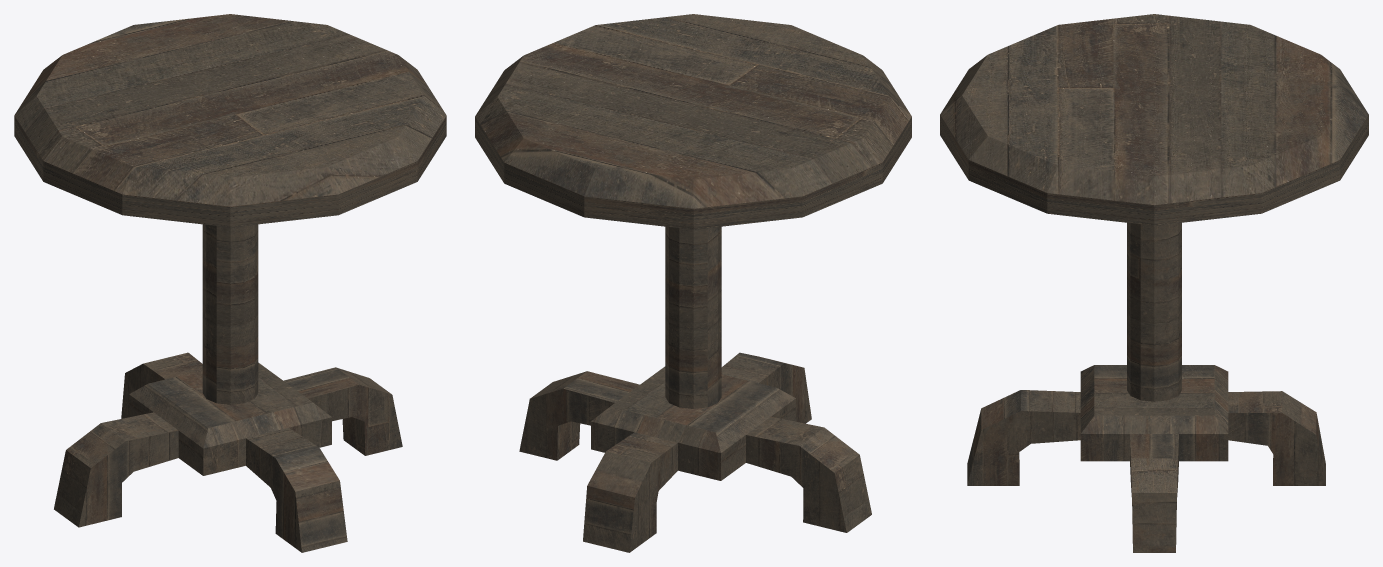
The model's file is StolUdenGelænder 1.fbx.
3 views of the same model, side by side, from view 1: azimuth 30°, elevation 25°; view 2: azimuth 150°, elevation 25°; view 3: azimuth 270°, elevation 25° (orthographic).
Visible parts, largest first — view 1: Cylinder, Cylinder.001; view 2: Cylinder, Cylinder.001; view 3: Cylinder, Cylinder.001.
Boxes of the visible parts, x1,y1,x2,y2 form: Cylinder: (14, 14, 446, 227); Cylinder.001: (54, 224, 402, 552); Cylinder: (475, 14, 911, 229); Cylinder.001: (519, 226, 871, 552); Cylinder: (940, 14, 1368, 225); Cylinder.001: (967, 222, 1325, 552).
Size of the model in its own units: 200 by 195 by 200.
